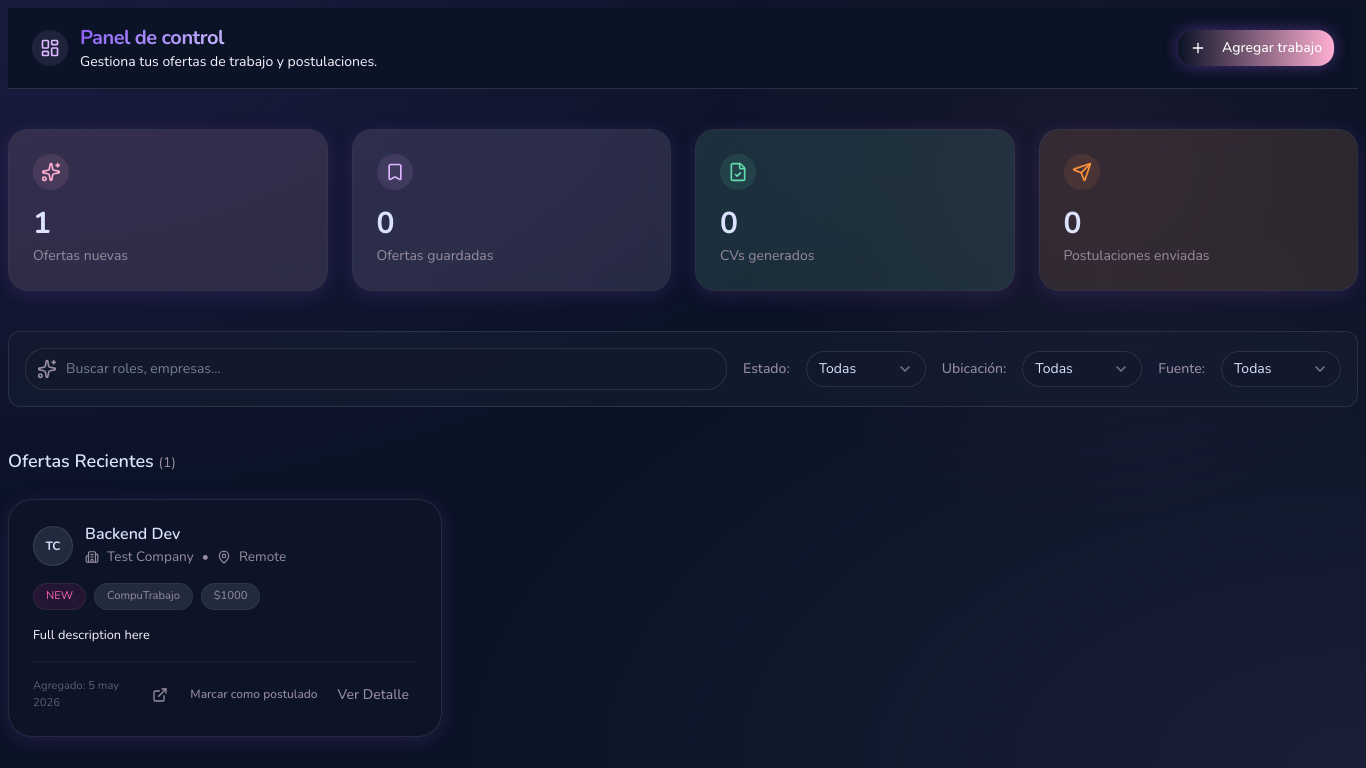
Test: Dashboard URL filters › opens JobDetailModal when Ver Detalle is clicked
What coordinates should you click on to do the following:
click the button "Ver Detalle"
I would click on:
 (373, 695)
Its box is x1=330 y1=679 x2=417 y2=711.
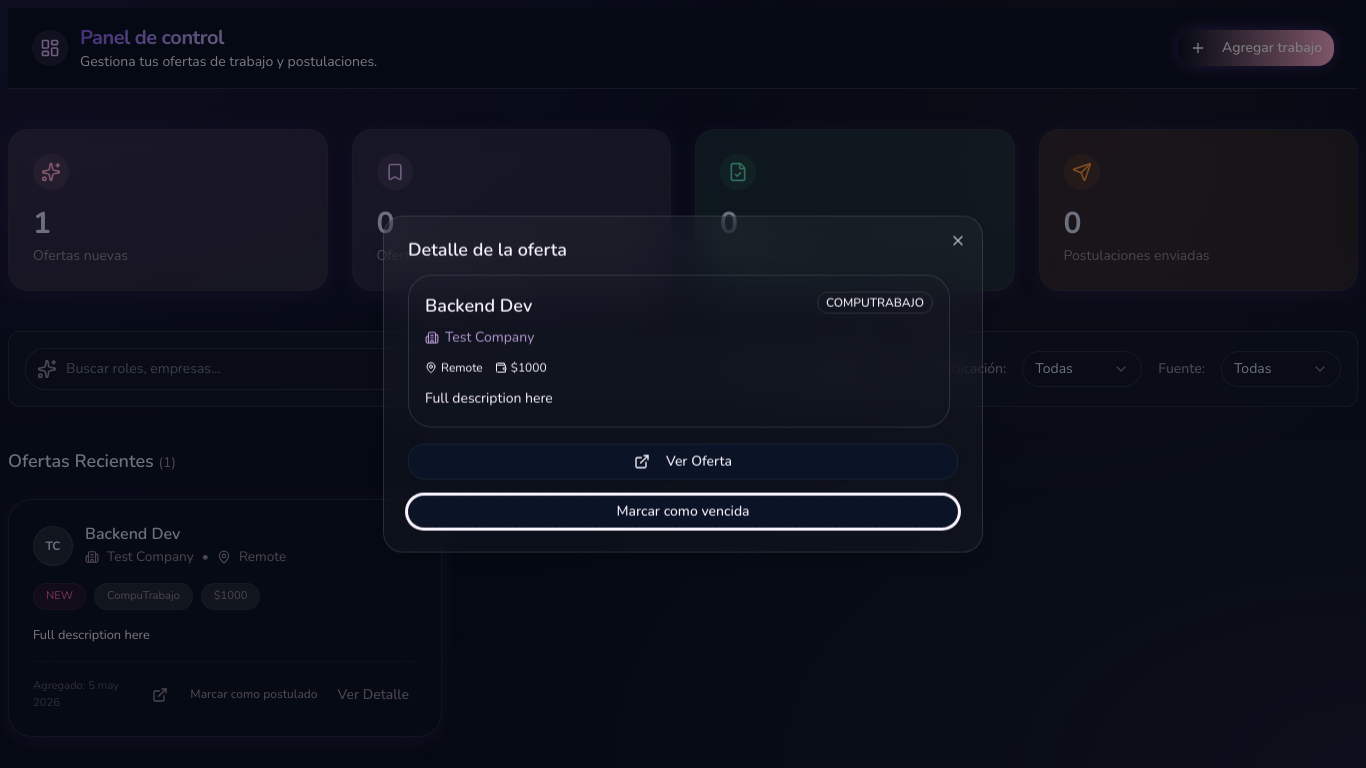
Check: the dialog "Detalle de la oferta" is shown, box x1=383 y1=216 x2=983 y2=552
Check: the heading "Backend Dev" is shown, box x1=425 y1=292 x2=532 y2=320
Check: the text "Full description here" is shown, box x1=425 y1=389 x2=553 y2=408
